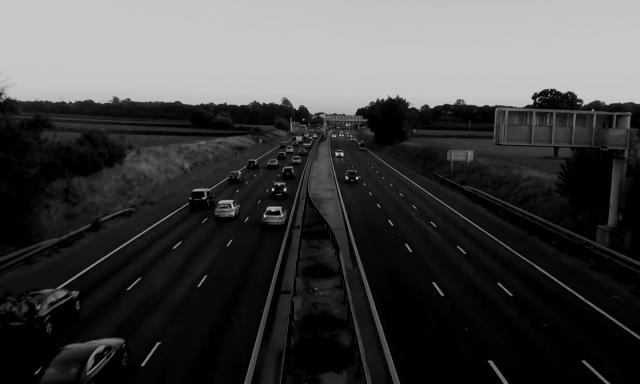caminhaop: (302, 136, 314, 148)
carro: (30, 336, 130, 383), (1, 286, 82, 342), (261, 206, 287, 230), (213, 199, 240, 222), (188, 188, 215, 210), (270, 182, 290, 200), (227, 170, 244, 184), (344, 170, 360, 184), (281, 166, 295, 178), (246, 158, 258, 170), (267, 159, 279, 169), (277, 152, 287, 160), (285, 145, 294, 153), (298, 148, 307, 156), (291, 157, 301, 164), (335, 150, 345, 157), (279, 141, 286, 149), (359, 143, 367, 150), (292, 141, 298, 147), (350, 136, 356, 142), (338, 132, 344, 138), (346, 132, 352, 138), (292, 136, 298, 142), (332, 133, 337, 137)
van: (296, 136, 303, 143)
